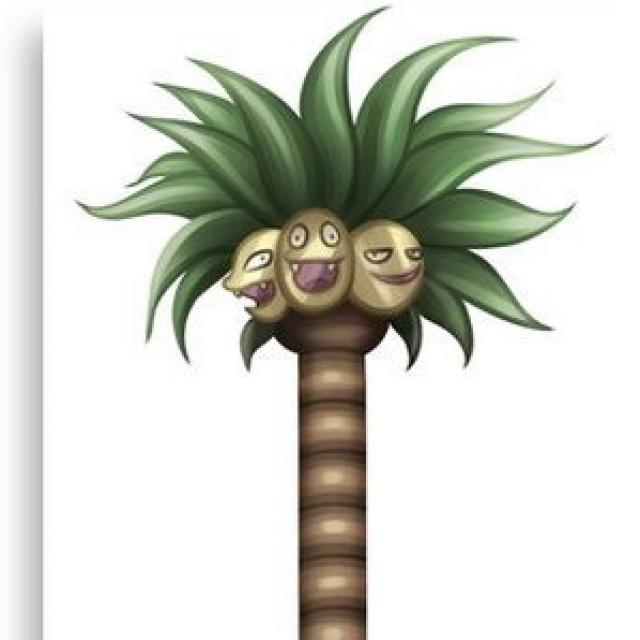Exeggutor: (215, 169, 443, 640)
